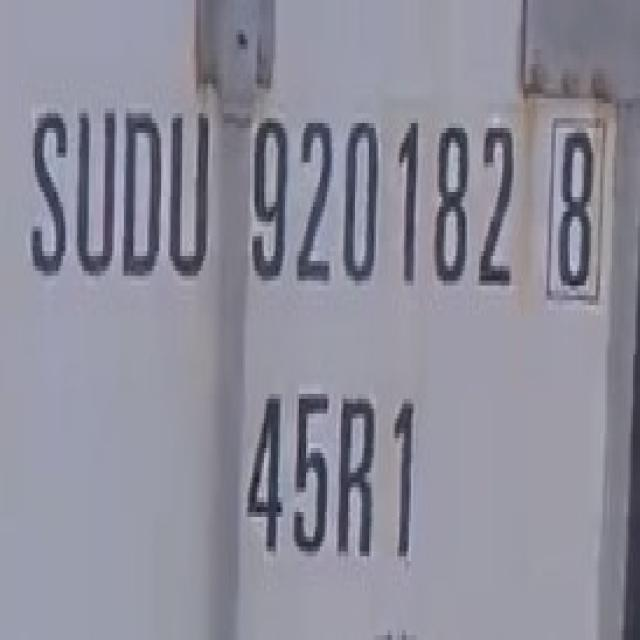dv: (538, 102, 610, 310)
owner: (20, 82, 214, 300)
serial: (236, 88, 518, 307)
size: (234, 359, 429, 582)
